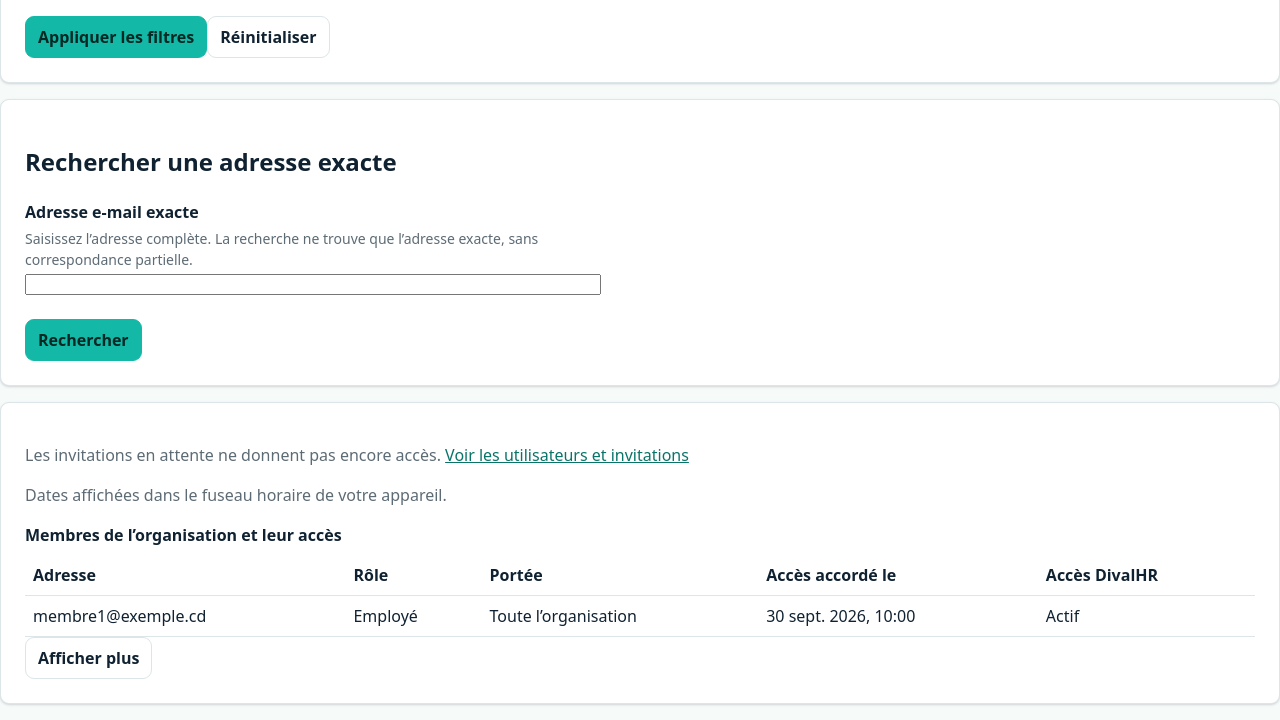
Test: access review (fr) › loads more and moves focus to the first new row
The width and height of the screenshot is (1280, 720).
(page scrolled)
Expected: the table with test id "review-table" is shown, [25,523,1255,637]
Click the button "Afficher plus" at (89, 658), box [25,637,152,679]
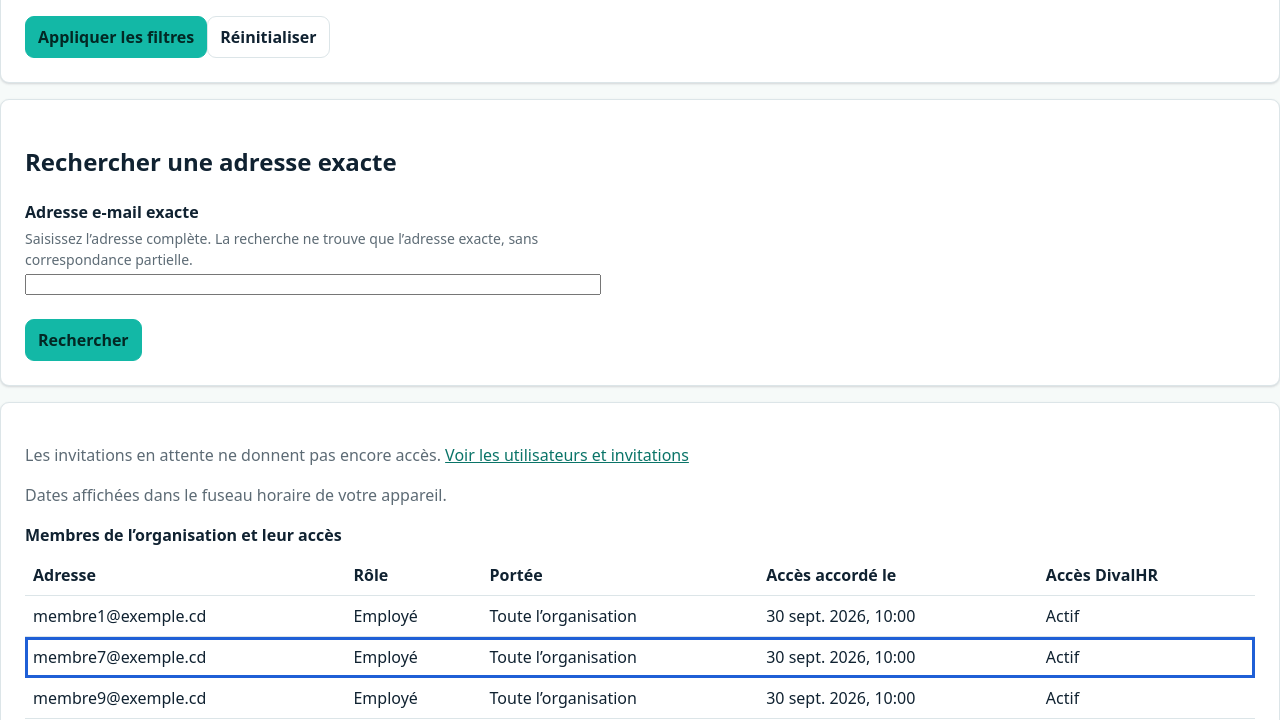
Expected: the number of rows with test id "review-row" is 3, [25,596,1255,637]; [25,637,1255,678]; [25,678,1255,719]
Expected: the button "Afficher plus" is gone
